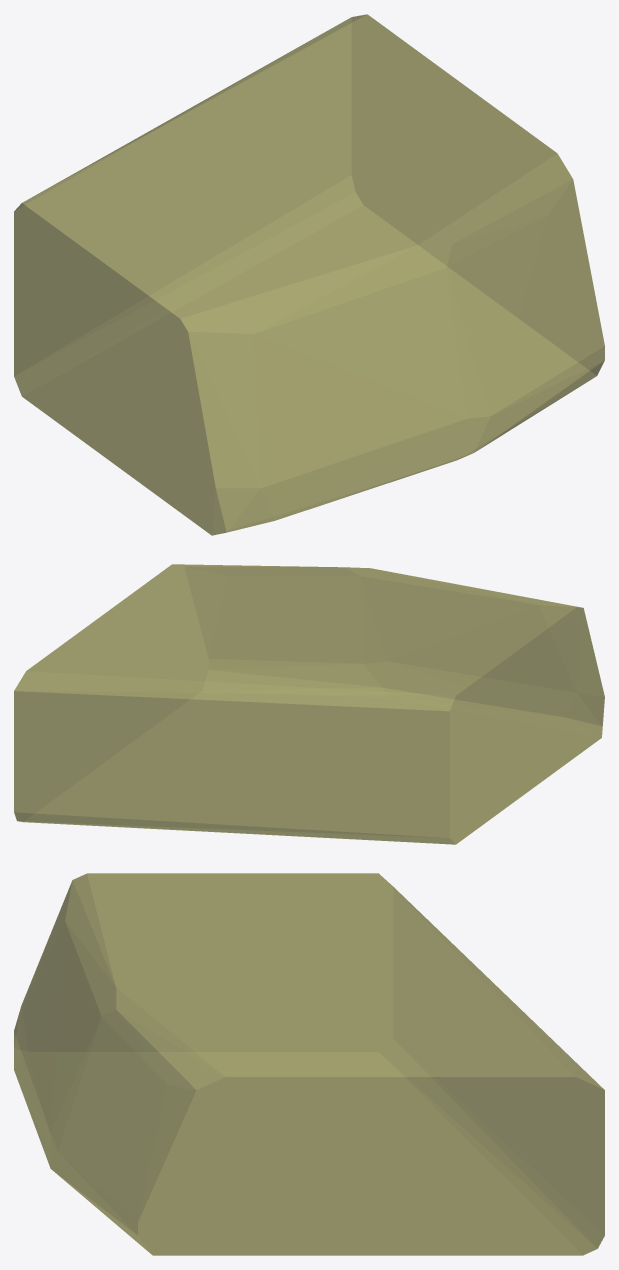
The picture shows the model from 3 angles, top to bottom: view 1: azimuth 30°, elevation 25°; view 2: azimuth 150°, elevation 25°; view 3: azimuth 270°, elevation 25°; orthographic projection. The views are drawn at different scales.
Parts seen in each view (by area): view 1: Shape_IndexedFaceSet.006_Shape_IndexedFaceSet.1228; view 2: Shape_IndexedFaceSet.006_Shape_IndexedFaceSet.1228; view 3: Shape_IndexedFaceSet.006_Shape_IndexedFaceSet.1228.
Boxes of the visible parts, x1,y1,x2,y2 form: Shape_IndexedFaceSet.006_Shape_IndexedFaceSet.1228: [14, 14, 604, 535]; Shape_IndexedFaceSet.006_Shape_IndexedFaceSet.1228: [14, 564, 604, 844]; Shape_IndexedFaceSet.006_Shape_IndexedFaceSet.1228: [14, 873, 604, 1255].
Size of the model in its own units: 0.1315 by 0.0538 by 0.1613.
